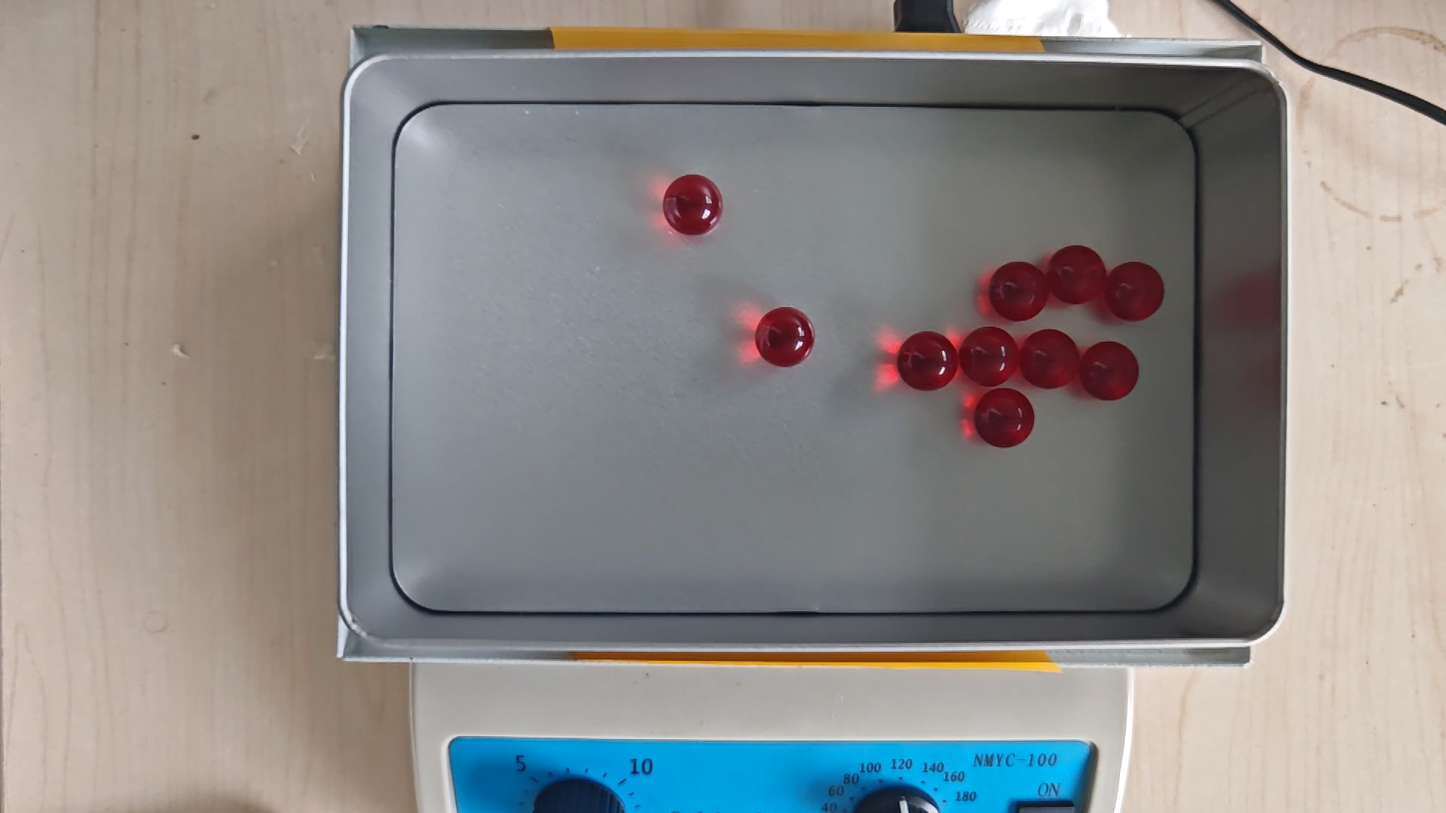ball: (663, 173, 723, 236), (898, 330, 958, 392), (975, 386, 1034, 449), (1105, 261, 1165, 322), (755, 307, 815, 368), (1079, 341, 1139, 401), (1021, 329, 1080, 389), (1048, 244, 1105, 305), (990, 260, 1047, 320), (961, 326, 1018, 386)
container: (390, 104, 1196, 613)
